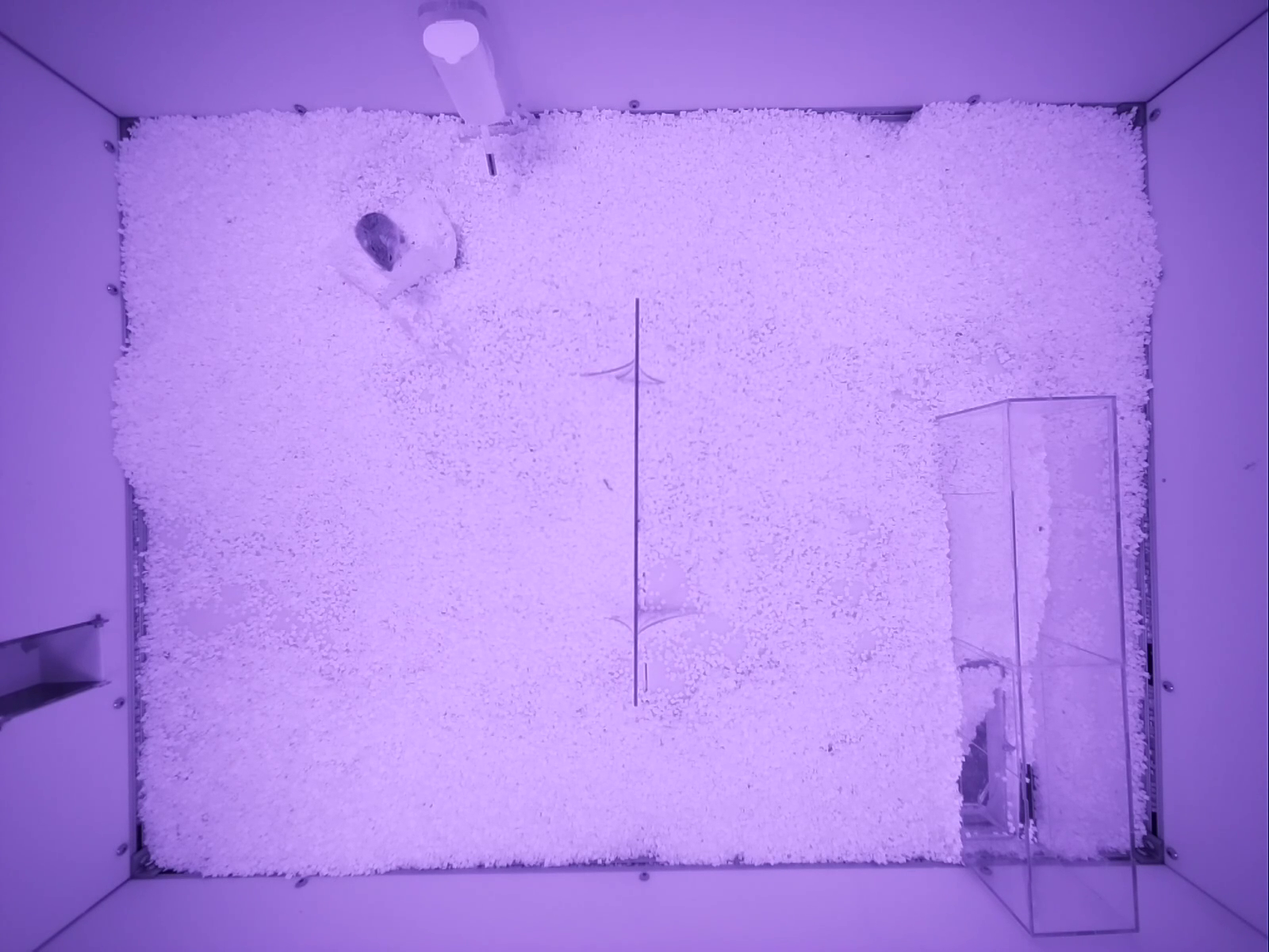adult_back: (355, 211, 411, 271)
